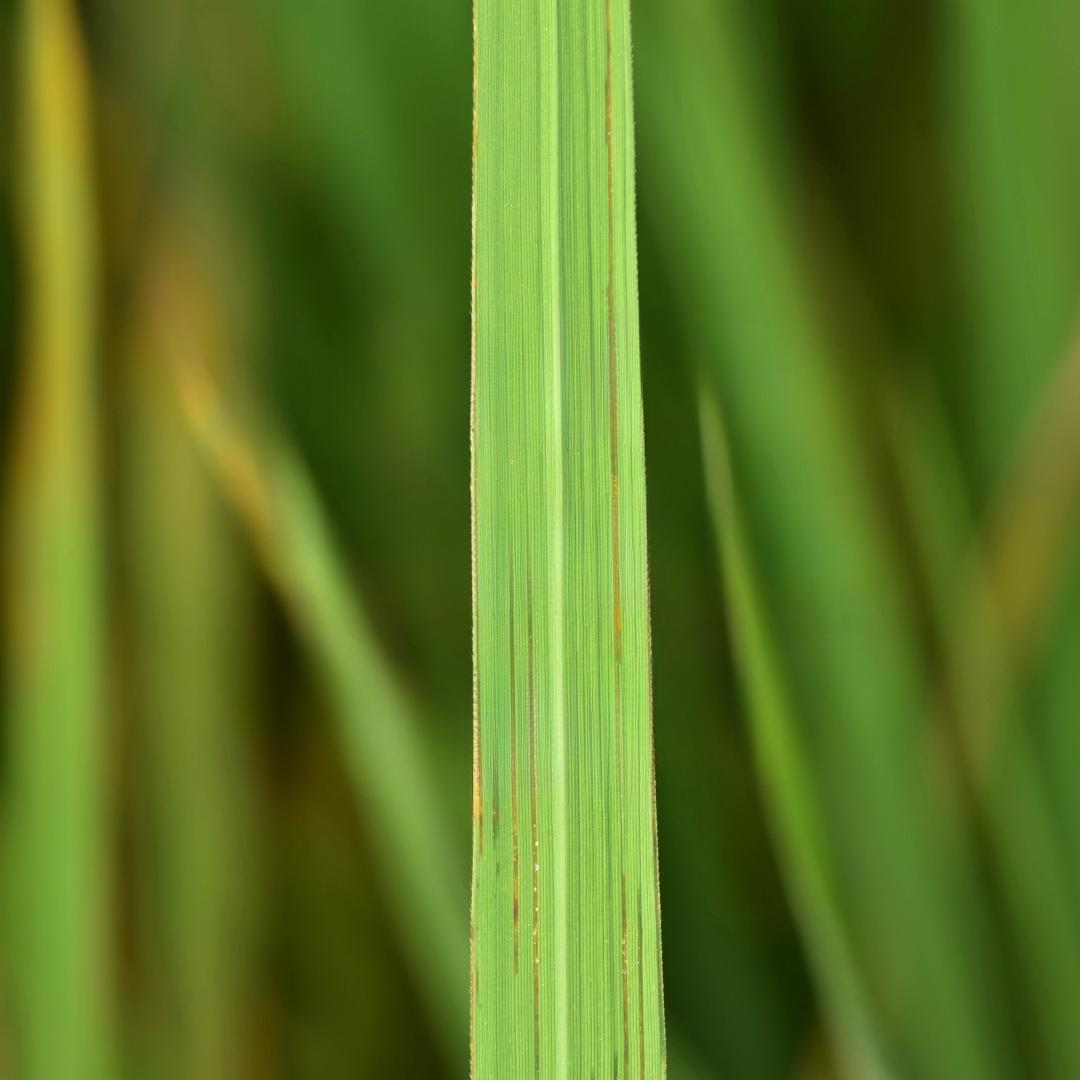BLS: (606, 0, 621, 776), (648, 589, 666, 1079), (471, 349, 483, 855), (527, 578, 539, 1079), (510, 565, 519, 973), (638, 873, 646, 1079), (622, 875, 628, 1077), (471, 921, 475, 1079), (493, 765, 500, 841)
LEAF: (471, 0, 667, 1079)
